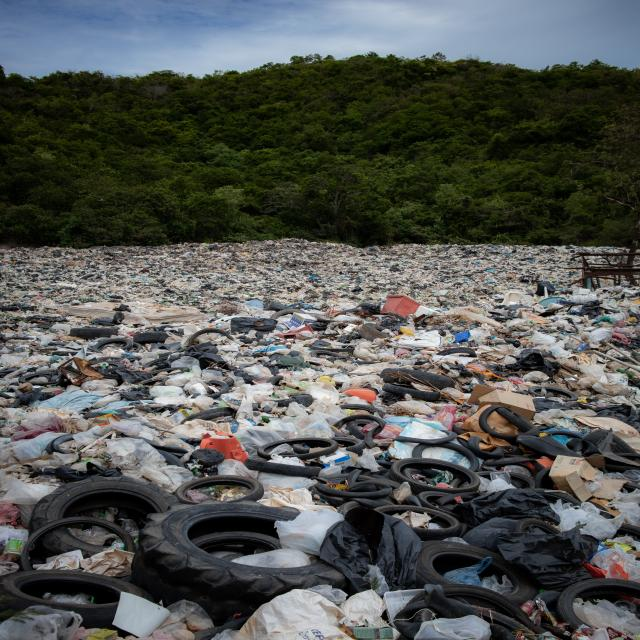trash: (131, 264, 539, 366)
